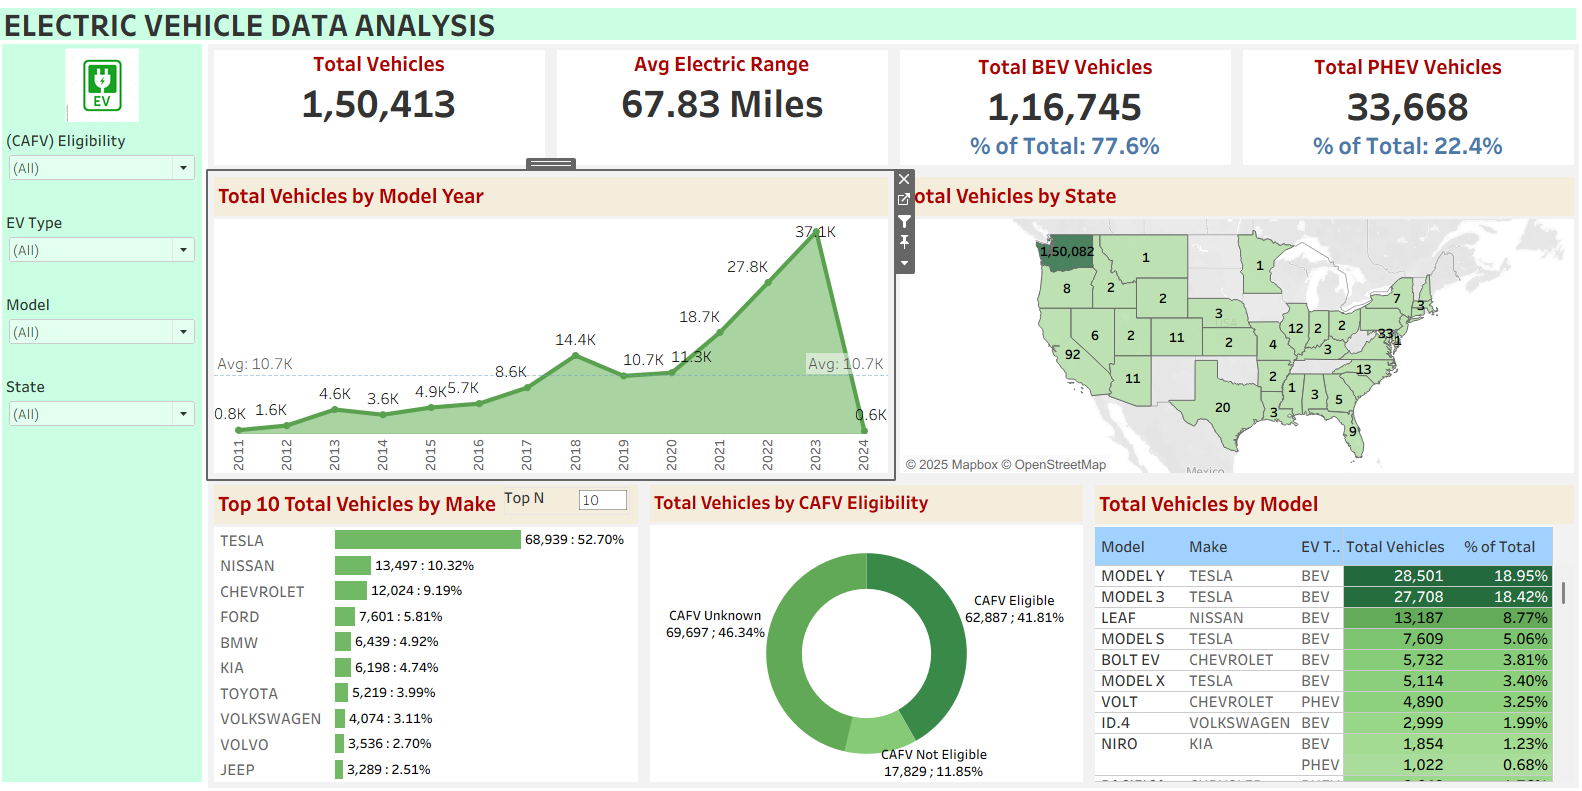

What the dashboard file says about the page in this screenshot:
{"tool":"tableau","page":{"name":"Dashboard 1","canvas":[1600,800],"ordinal":0},"visuals":[{"type":"title","box":[8,8,1584,40]},{"type":"image","param":"Image/ev.jpg","box":[14,48,200,82]},{"type":"worksheet","title":"Total Vehicles","mark":"Automatic","box":[220,48,343,127]},{"type":"worksheet","title":"Avg Electric Range","mark":"Automatic","box":[563,48,343,127]},{"type":"worksheet","title":"Total BEV Vehicles","mark":"Automatic","box":[906,48,343,127]},{"type":"worksheet","title":"Total PHEV Vehicles","mark":"Automatic","box":[1249,48,343,127]},{"type":"filter","title":"Total Vehicles by Model Year","param":"[federated.1p1vp2y0kqjtcu157ui2w04jnls8].[none:Clean Alternative Fuel Vehicle (C","box":[14,130,200,82]},{"type":"worksheet","title":"Total Vehicles by Model Year","mark":"Area","rows":["Calculation_127789701169078272","Calculation_127789701169078272"],"cols":["Model Year"],"box":[220,174.7,686,308.6]},{"type":"worksheet","title":"Total Vehicles by State","mark":"Multipolygon","box":[906,174.7,686,308.6]},{"type":"filter","title":"Total Vehicles by Model Year","param":"[federated.1p1vp2y0kqjtcu157ui2w04jnls8].[none:Electric Vehicle Type:nk]","box":[14,212,200,82]},{"type":"filter","title":"Total Vehicles by Model Year","param":"[federated.1p1vp2y0kqjtcu157ui2w04jnls8].[none:Model:nk]","box":[14,294,200,82]},{"type":"filter","title":"Total Vehicles by Model Year","param":"[federated.1p1vp2y0kqjtcu157ui2w04jnls8].[none:State:nk]","box":[14,376,200,82]},{"type":"blank","box":[14,458,200,82]},{"type":"worksheet","title":"Top 10 Total Vehicles by Make","mark":"Automatic","rows":["Make"],"cols":["Calculation_127789701169078272"],"box":[220,483.4,436,308.6]},{"type":"worksheet","title":"Total Vehicles by CAFV Eligibility","mark":"Pie","rows":["Calculation_127789701189709831","Calculation_127789701189709831"],"box":[656,483.4,445,308.6]},{"type":"worksheet","title":"Total Vehicles by Model","mark":"Square","rows":["Model","Make","Electric Vehicle Type"],"box":[1101,483.4,491,308.6]},{"type":"parameter","param":"[Parameters].[Parameter 1]","box":[516,491,126,28]},{"type":"blank","box":[14,540,200,82]},{"type":"blank","box":[14,622,200,82]},{"type":"blank","box":[14,704,200,82]}]}

Visuals, with their boxes in screenshot pixels (x1, y1, x2, y2), scaled from the page's 1600x800 canvas onto the 1582x791 screenshot:
title: select_region(8, 8, 1574, 47)
image: select_region(14, 47, 212, 129)
"Total Vehicles" worksheet: select_region(218, 47, 557, 173)
"Avg Electric Range" worksheet: select_region(557, 47, 896, 173)
"Total BEV Vehicles" worksheet: select_region(896, 47, 1235, 173)
"Total PHEV Vehicles" worksheet: select_region(1235, 47, 1574, 173)
"Total Vehicles by Model Year" filter: select_region(14, 129, 212, 210)
"Total Vehicles by Model Year" worksheet (Area marks): select_region(218, 173, 896, 478)
"Total Vehicles by State" worksheet (Multipolygon marks): select_region(896, 173, 1574, 478)
"Total Vehicles by Model Year" filter: select_region(14, 210, 212, 291)
"Total Vehicles by Model Year" filter: select_region(14, 291, 212, 372)
"Total Vehicles by Model Year" filter: select_region(14, 372, 212, 453)
blank: select_region(14, 453, 212, 534)
"Top 10 Total Vehicles by Make" worksheet: select_region(218, 478, 649, 783)
"Total Vehicles by CAFV Eligibility" worksheet (Pie marks): select_region(649, 478, 1089, 783)
"Total Vehicles by Model" worksheet (Square marks): select_region(1089, 478, 1574, 783)
parameter: select_region(510, 485, 635, 513)
blank: select_region(14, 534, 212, 615)
blank: select_region(14, 615, 212, 696)
blank: select_region(14, 696, 212, 777)
